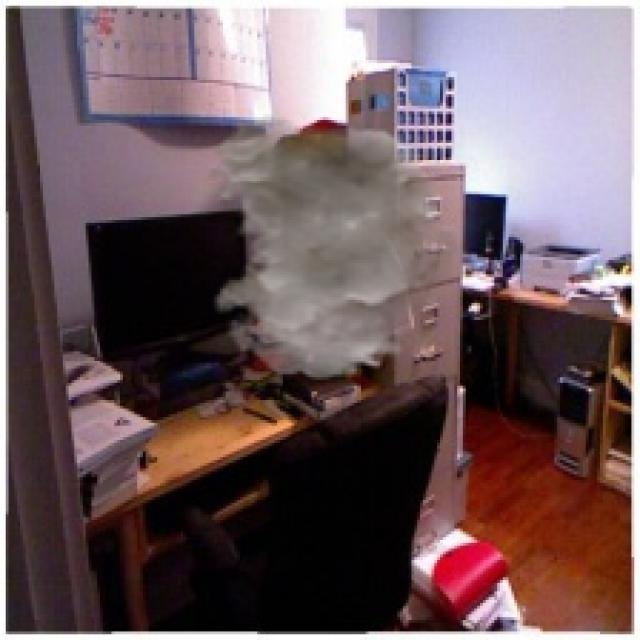smoke: (206, 114, 474, 380)
